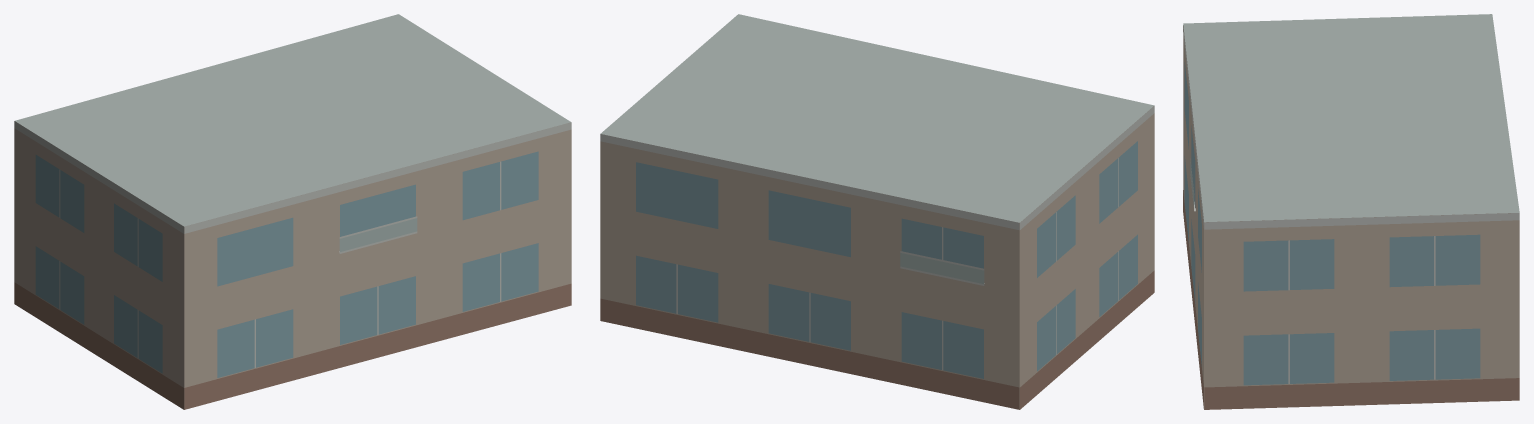
Rendered from survey-upis-32703172.glb.
3 views of the same model, side by side, from view 1: azimuth 30°, elevation 25°; view 2: azimuth 150°, elevation 25°; view 3: azimuth 270°, elevation 25° (orthographic). The views are drawn at different scales.
Visible parts, largest first — view 1: survey-upis-32703172.tmp; view 2: survey-upis-32703172.tmp; view 3: survey-upis-32703172.tmp.
Part boxes in pixels (x1=…): survey-upis-32703172.tmp: x1=14, y1=14, x2=571, y2=409; survey-upis-32703172.tmp: x1=600, y1=14, x2=1154, y2=409; survey-upis-32703172.tmp: x1=1183, y1=14, x2=1519, y2=409.
Size of the model in its own units: 14.52 by 6.1 by 9.93.
